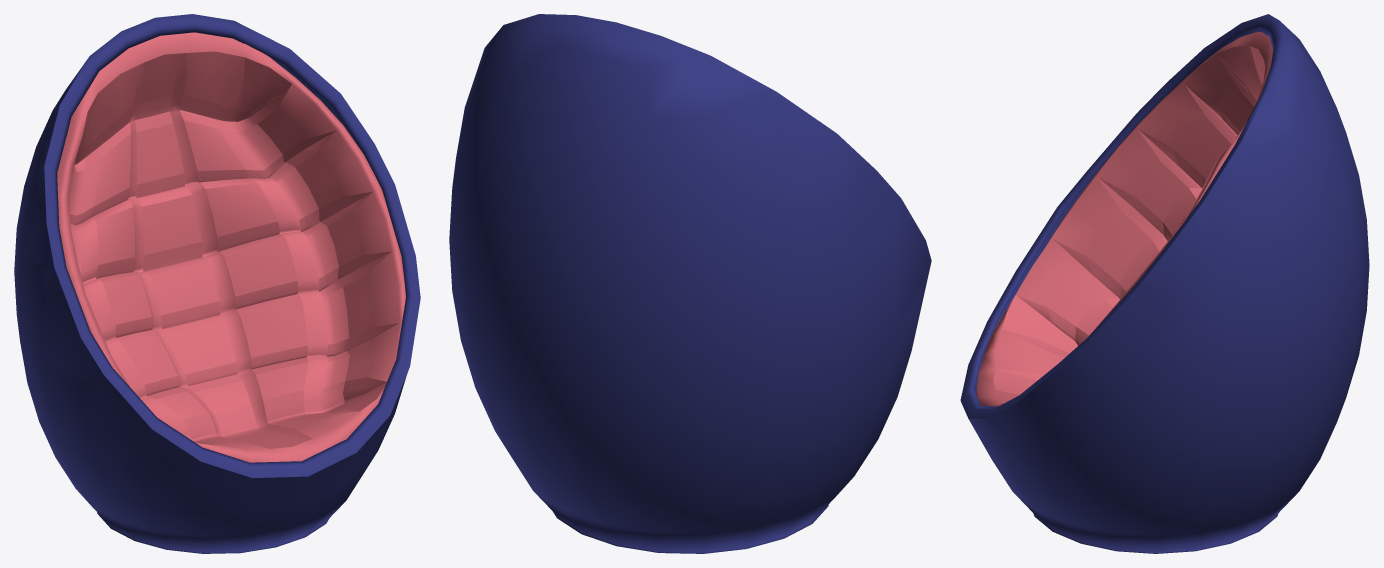
File: stul1.FBX
3 renders of one model, left to right at view 1: azimuth 30°, elevation 25°; view 2: azimuth 150°, elevation 25°; view 3: azimuth 270°, elevation 25°, orthographic. The views are drawn at different scales.
Visible parts, largest first — view 1: stul1; view 2: stul1; view 3: stul1.
Boxes of the visible parts, x1,y1,x2,y2 form: stul1: (14, 14, 420, 553); stul1: (449, 14, 931, 553); stul1: (960, 14, 1369, 553).
Size of the model in its own units: 51.16 by 61.53 by 49.04.
